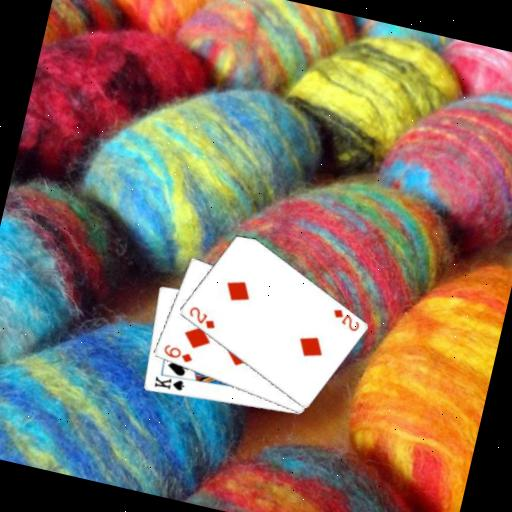2D: (183, 302, 220, 332), (327, 304, 364, 334)
6D: (159, 341, 196, 366)
KS: (150, 372, 188, 396)
